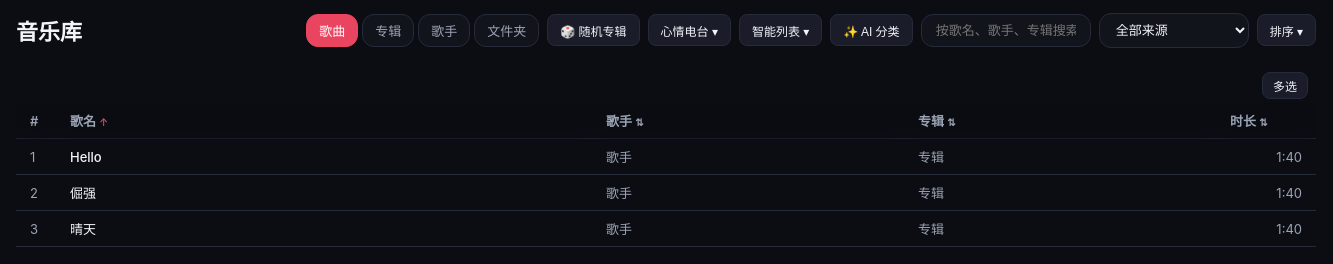
Scenario: LibraryPage 音乐库 › 搜索过滤歌曲
Type "晴天" into the field with placeholder "按歌名、歌手、专辑搜索..." at (1006, 30), box x1=921 y1=14 x2=1091 y2=46
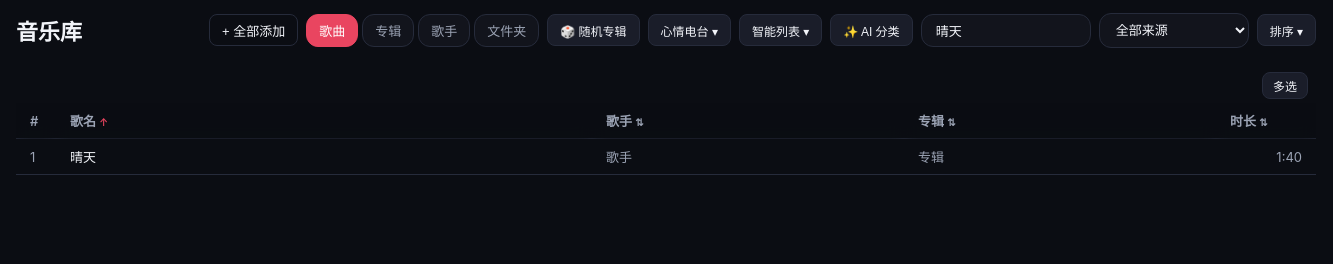
Check: the text "晴天" is shown, box x1=56 y1=138 x2=592 y2=174
Check: the text "Hello" is gone
